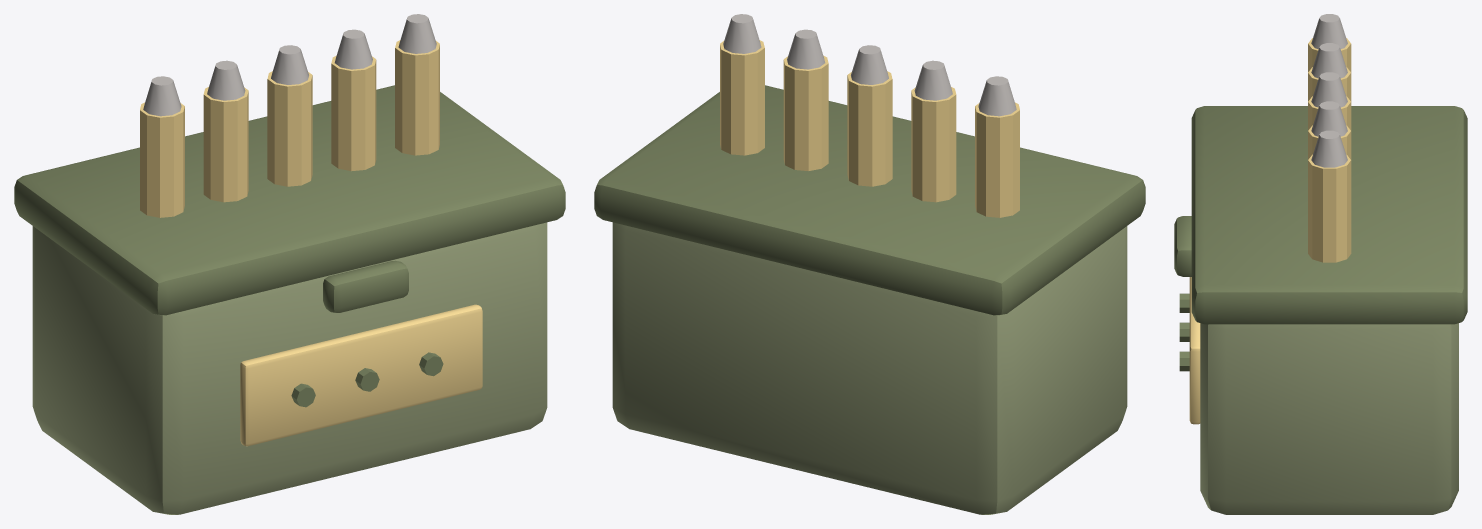
The model's file is ammo_box.glb.
3 renders of one model, left to right at view 1: azimuth 30°, elevation 25°; view 2: azimuth 150°, elevation 25°; view 3: azimuth 270°, elevation 25°, orthographic. The views are drawn at different scales.
Visible parts, largest first — view 1: ammo_box; view 2: ammo_box; view 3: ammo_box.
Boxes of the visible parts, box(x1,y1,x2,y2) form: ammo_box: box(14, 14, 565, 514); ammo_box: box(594, 14, 1145, 514); ammo_box: box(1174, 14, 1467, 514).
Bounding box in the file's own units: 0.52 × 0.4575 × 0.34.
